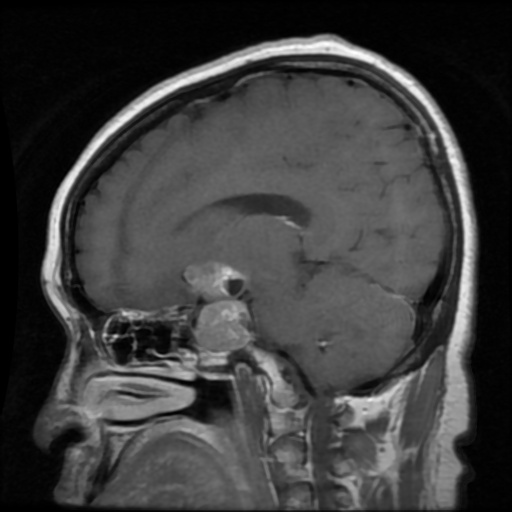pituitary: (184, 263, 250, 353)
